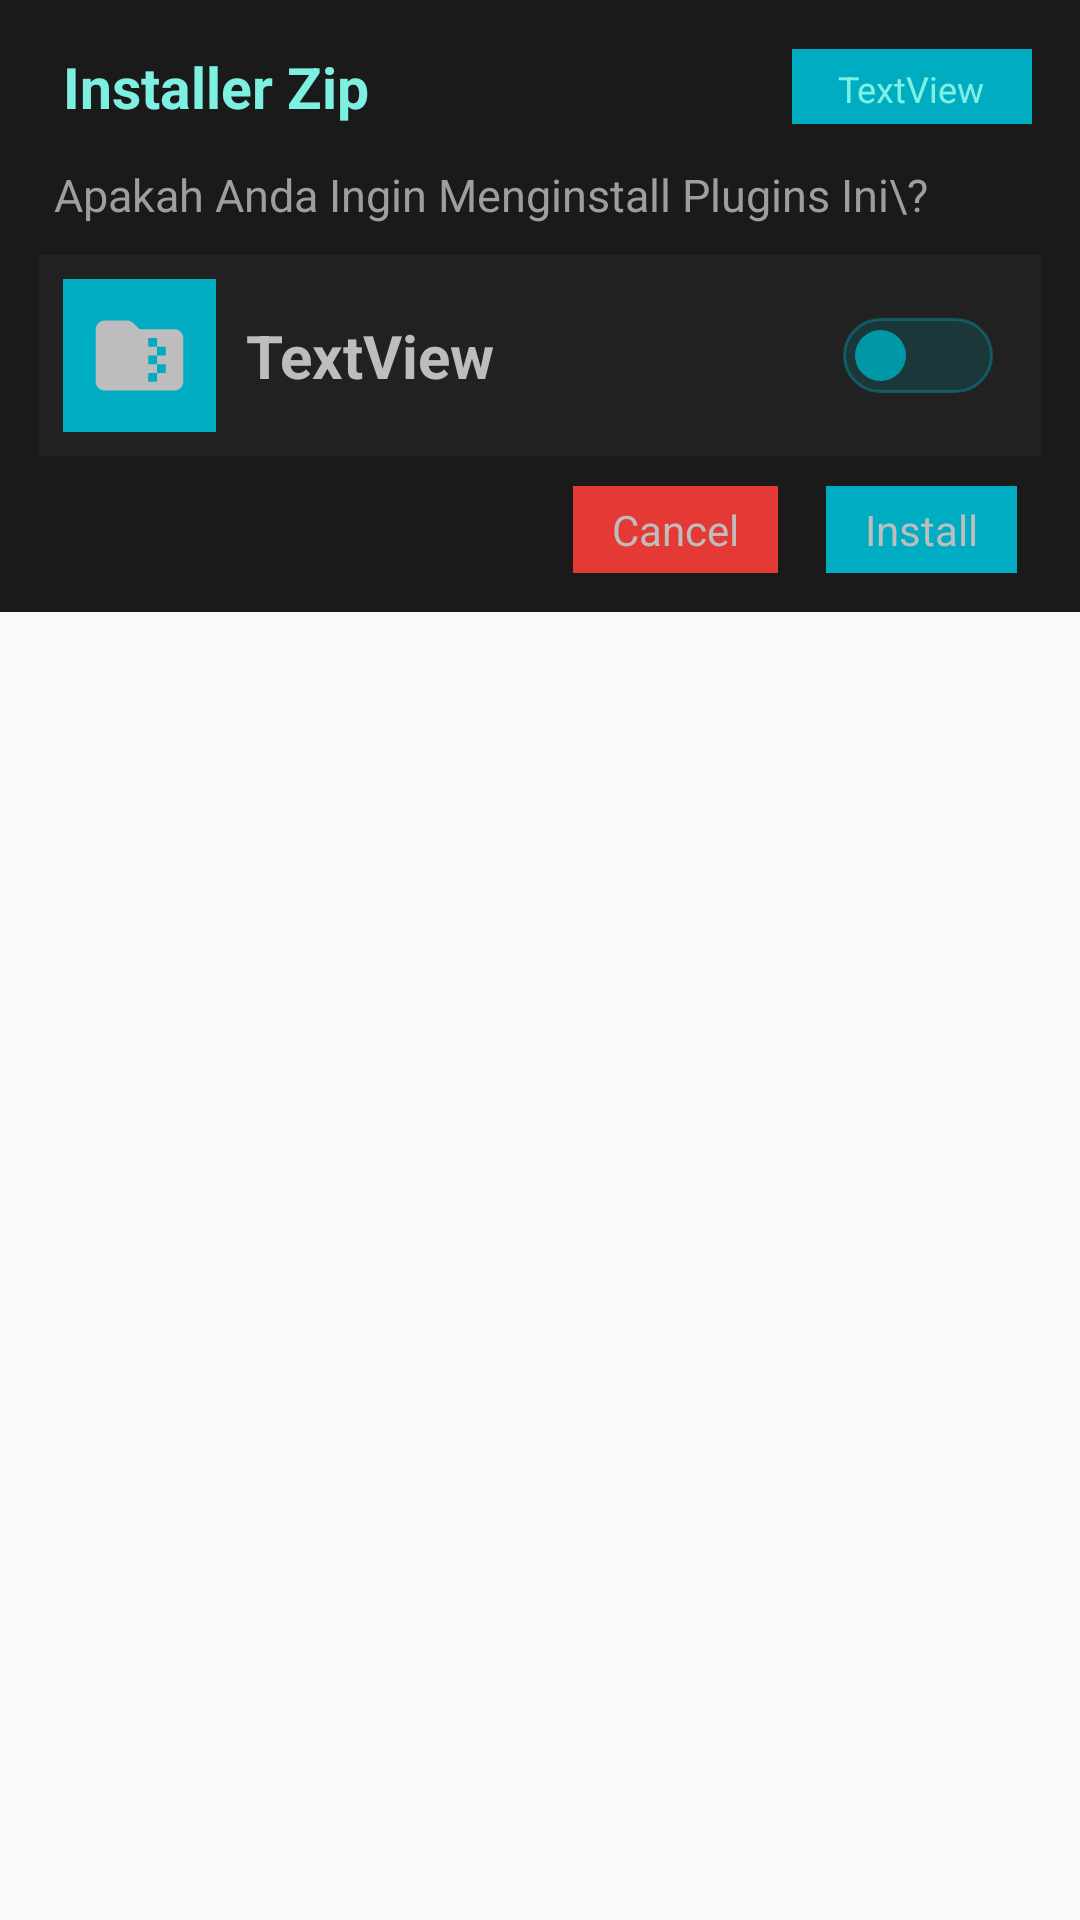

Icon bounding boxes for this 1080 x 1920 phone screenshot, format (x1,y1,x2,y2):
folder zip round: (95,320,184,391)
